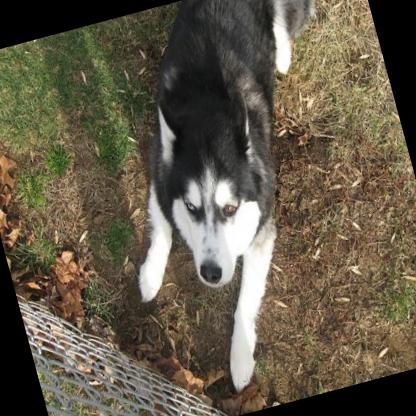Siberian_husky: (68, 0, 403, 409)
